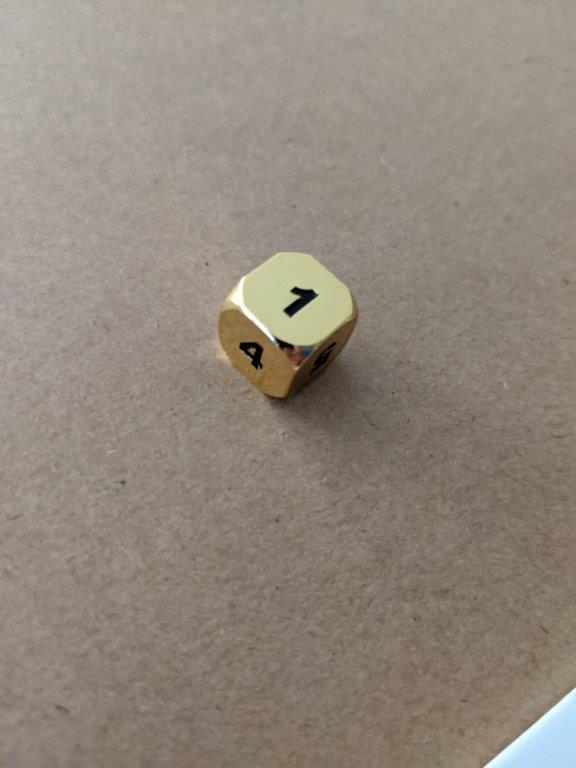d6-1: (217, 252, 359, 400)
